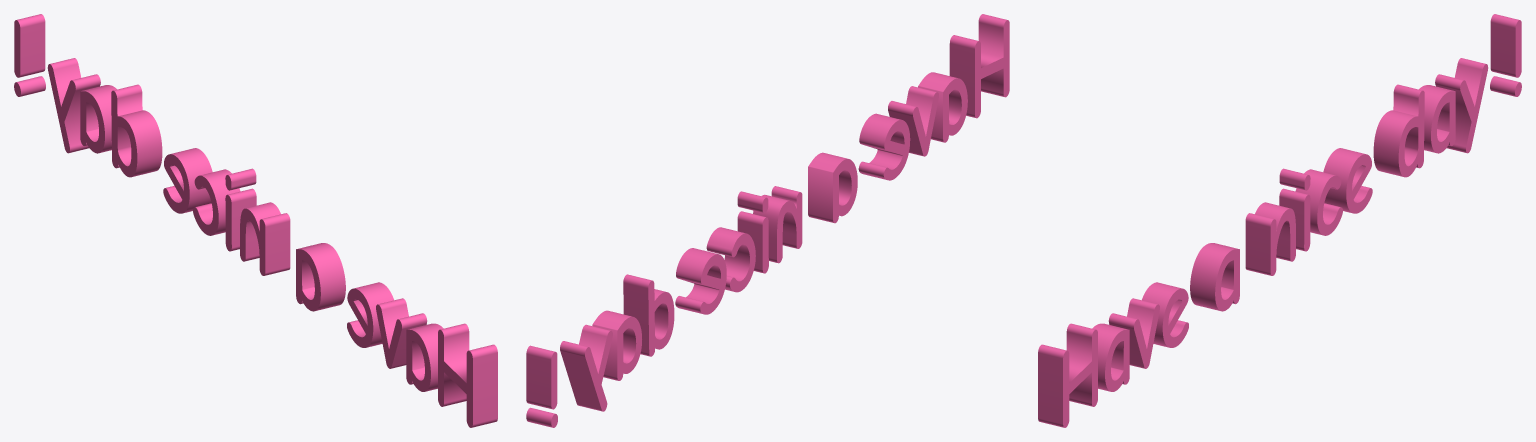
Rendered from haveaniceday.glb.
3 renders of one model, left to right at view 1: azimuth 30°, elevation 25°; view 2: azimuth 150°, elevation 25°; view 3: azimuth 330°, elevation 25°, orthographic.
Visible parts, largest first — view 1: 文本; view 2: 文本; view 3: 文本.
Boxes of the visible parts, x1=… form: 文本: x1=14, y1=14, x2=497, y2=427; 文本: x1=526, y1=14, x2=1009, y2=427; 文本: x1=1038, y1=14, x2=1521, y2=427.
Size of the model in its own units: 0.2 by 0.7363 by 6.35.
